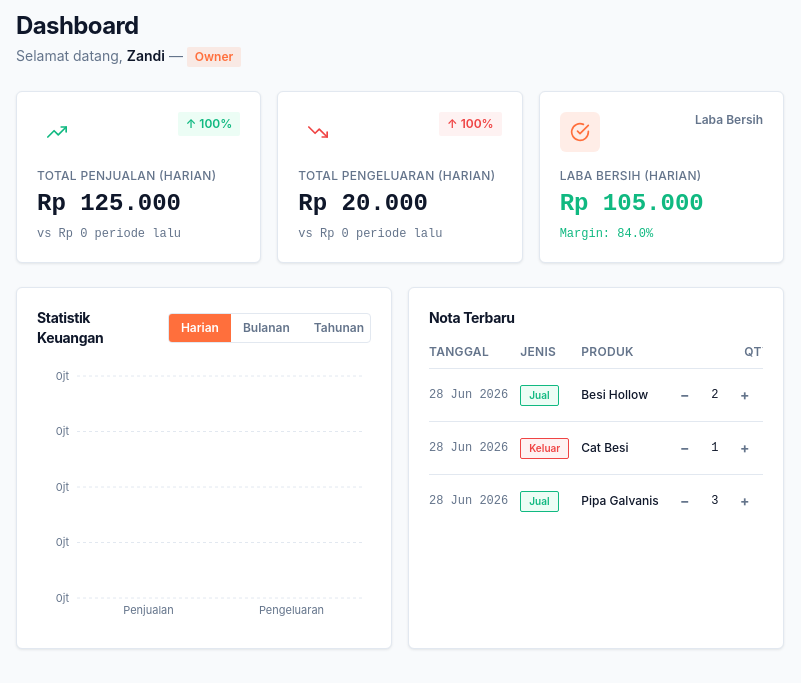
Test case: Dashboard › period filter buttons › should switch to Bulanan when clicked
Click the button "Bulanan" at (266, 328), box [231, 314, 302, 342]
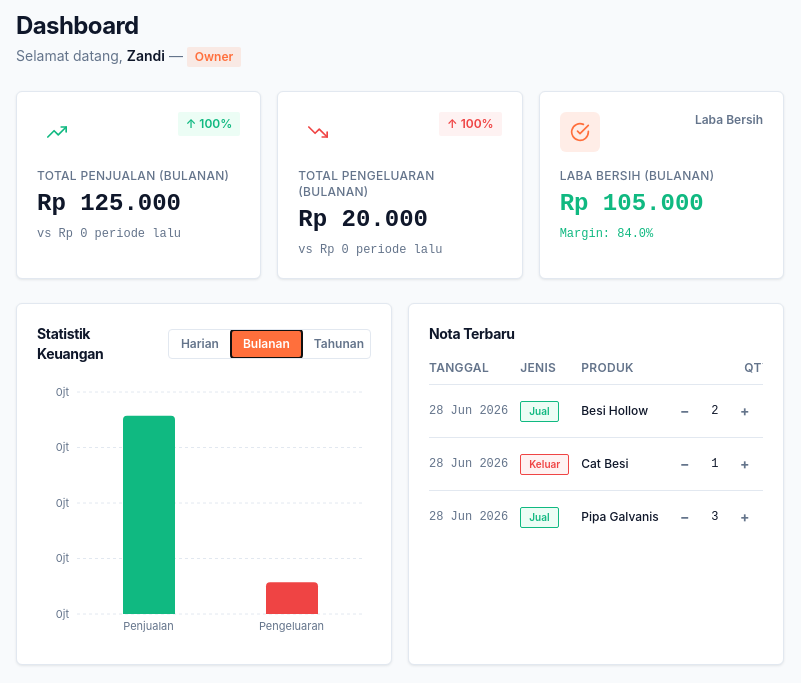
Now the text "Total Penjualan (bulanan)" is shown, box [37, 168, 240, 184]
